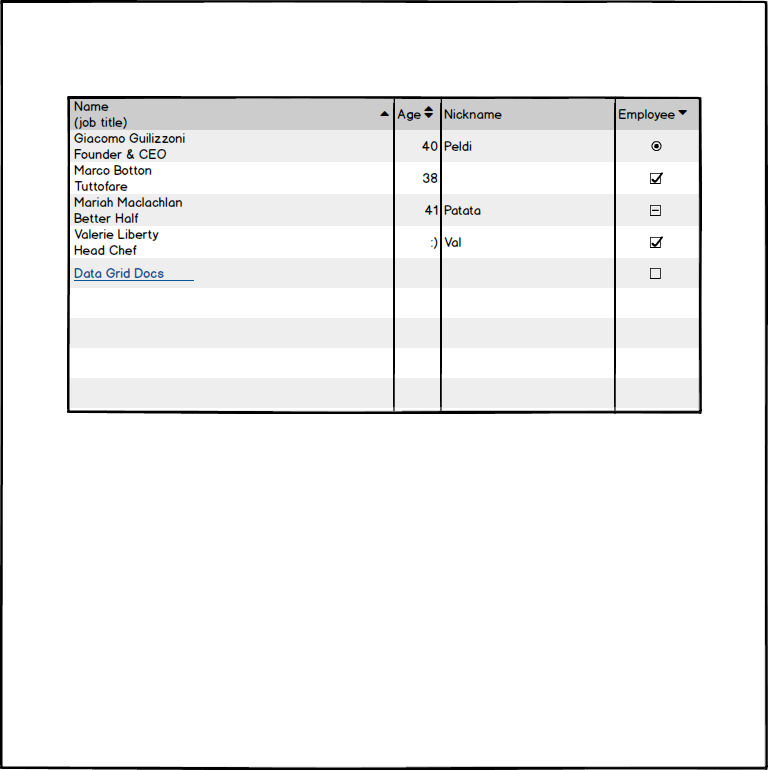table: (58, 88, 709, 421)
